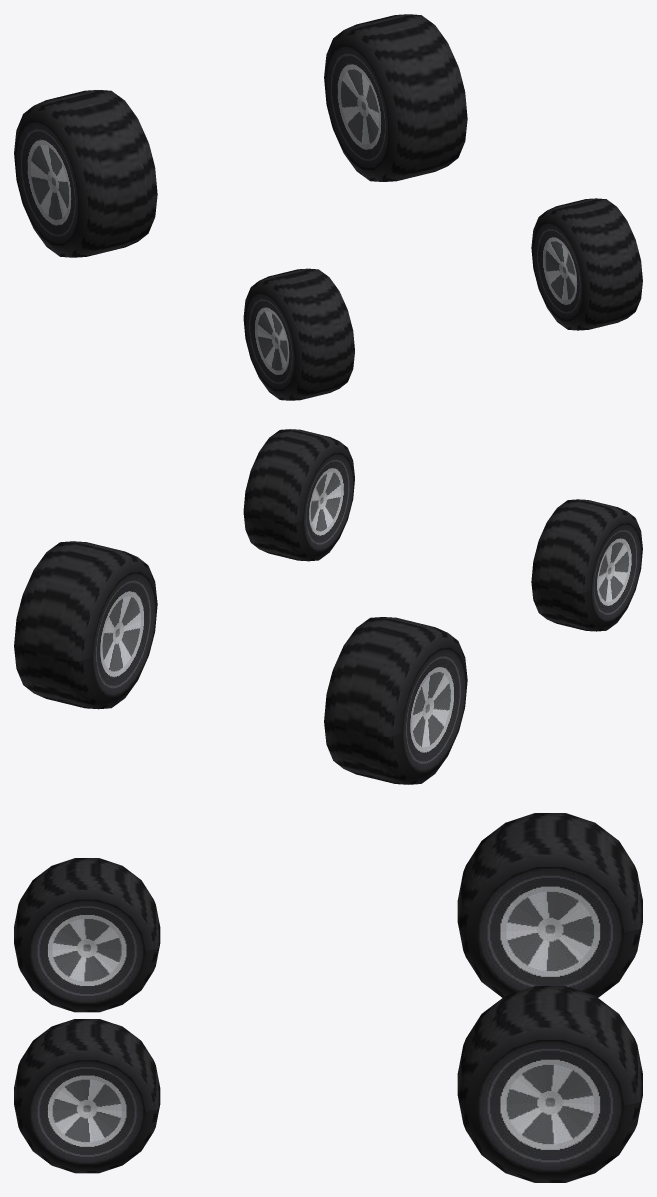
Rendered from wheels_standard.glb.
3 views of the same model, one above another, from view 1: azimuth 30°, elevation 25°; view 2: azimuth 150°, elevation 25°; view 3: azimuth 270°, elevation 25° (orthographic). The views are drawn at different scales.
Parts seen in each view (by area): view 1: Wheel_R, Wheel_FR, Wheel_FL; view 2: Wheel_R, Wheel_FL, Wheel_FR; view 3: Wheel_R, Wheel_FL, Wheel_FR.
Part boxes in pixels (x1,y1,x2,y2): Wheel_R: (14, 14, 467, 257); Wheel_FR: (531, 198, 642, 330); Wheel_FL: (243, 268, 354, 400); Wheel_R: (14, 541, 467, 784); Wheel_FL: (531, 499, 642, 631); Wheel_FR: (243, 429, 354, 561); Wheel_R: (457, 813, 642, 1182); Wheel_FL: (14, 858, 160, 1012); Wheel_FR: (14, 1019, 160, 1173).
Bounding box in the file's own units: 2.1 × 0.7497 × 2.58.
1 material, 1 textured.
